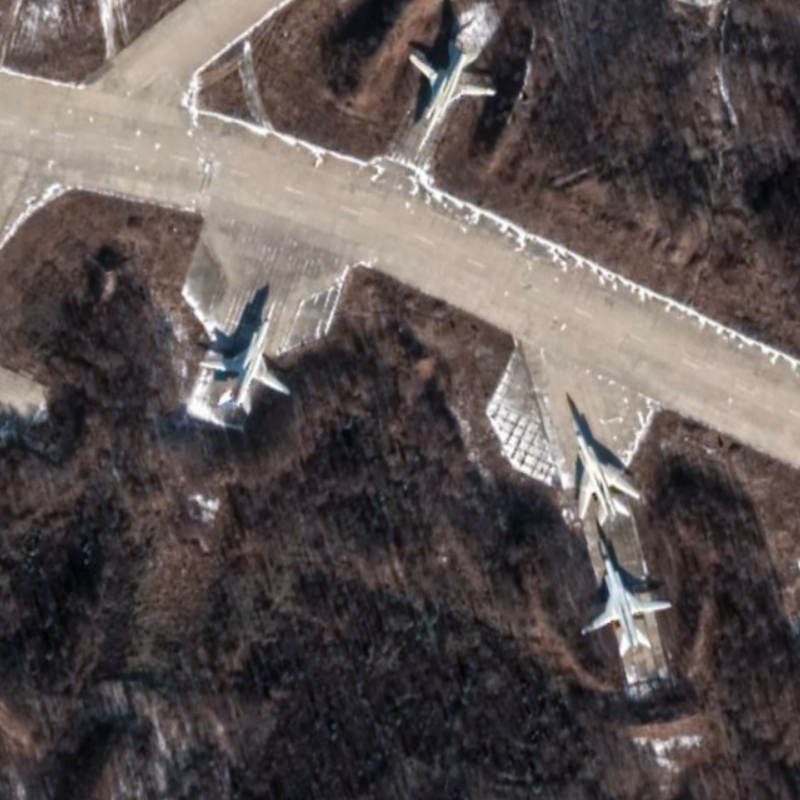A12: (578, 537, 676, 659), (404, 39, 501, 161), (198, 300, 291, 416), (567, 415, 642, 527)
